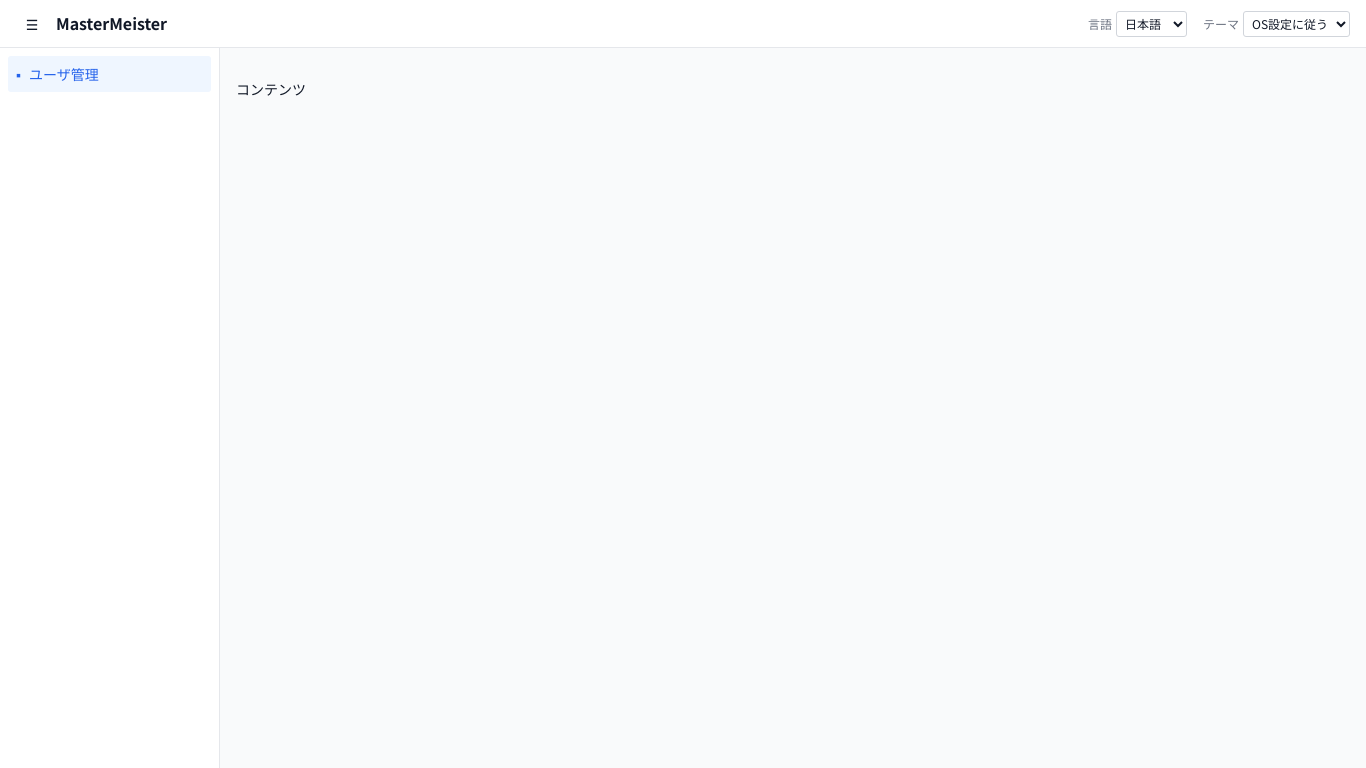
Test case: AppShell › ナビ項目を表示し、折りたたみでラベルが消える
The image size is (1366, 768).
Expected: the text "ユーザ管理" is shown, [29, 64, 99, 84]
Expected: the text "コンテンツ" is shown, [236, 79, 306, 99]
Click the button named "menu".
click(32, 24)  # box [16, 8, 48, 40]
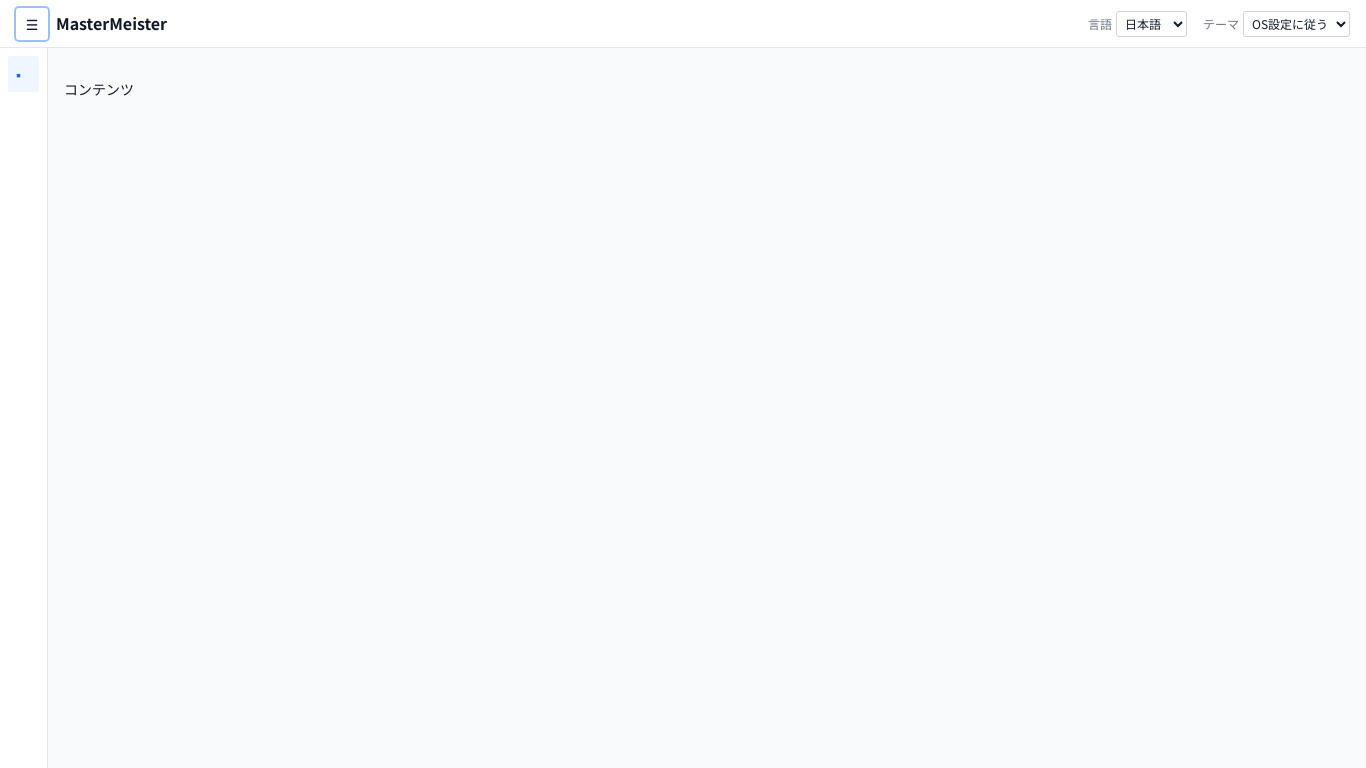
Expected: the text "ユーザ管理" is gone
Click the button named "menu".
click(32, 24)  # box [16, 8, 48, 40]
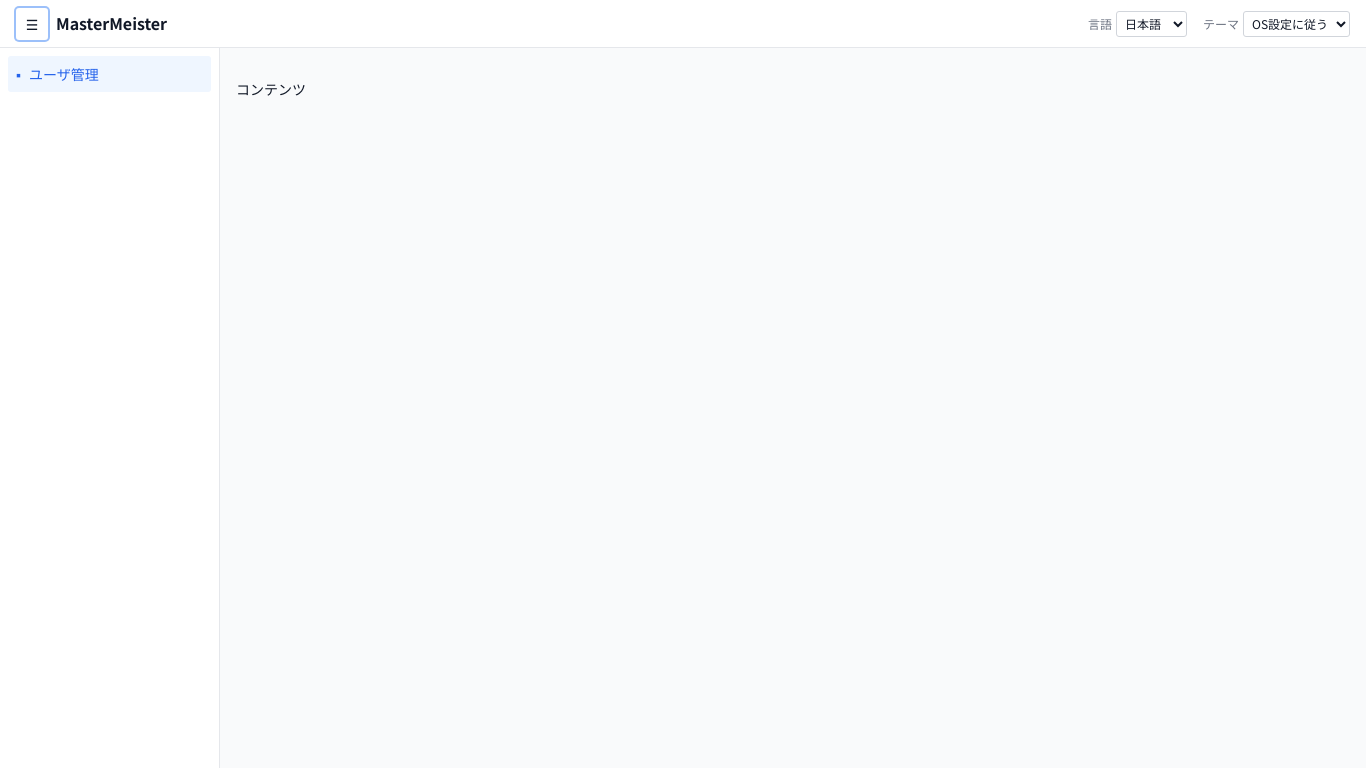
Expected: the text "ユーザ管理" is shown, [29, 64, 99, 84]
